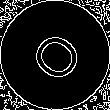O_SE: (21, 22, 89, 88)
